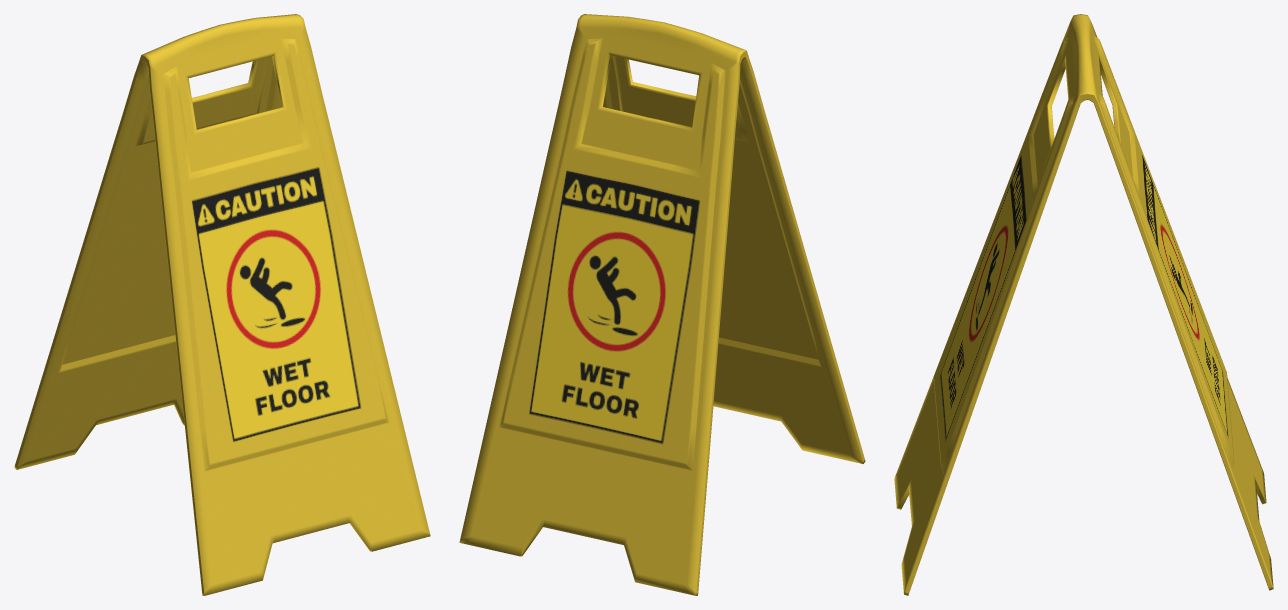
3 views of the same model, side by side, from view 1: azimuth 30°, elevation 25°; view 2: azimuth 150°, elevation 25°; view 3: azimuth 270°, elevation 25° (orthographic). The views are drawn at different scales.
Visible parts, largest first — view 1: Floor_Sign; view 2: Floor_Sign; view 3: Floor_Sign.
Boxes of the visible parts, <box> form: Floor_Sign: <box>14,14,430,595</box>; Floor_Sign: <box>459,14,865,595</box>; Floor_Sign: <box>894,14,1273,595</box>.
Bounding box in the file's own units: 0.3158 × 0.5968 × 0.4168.
Materials: 1 (1 with a texture image).
